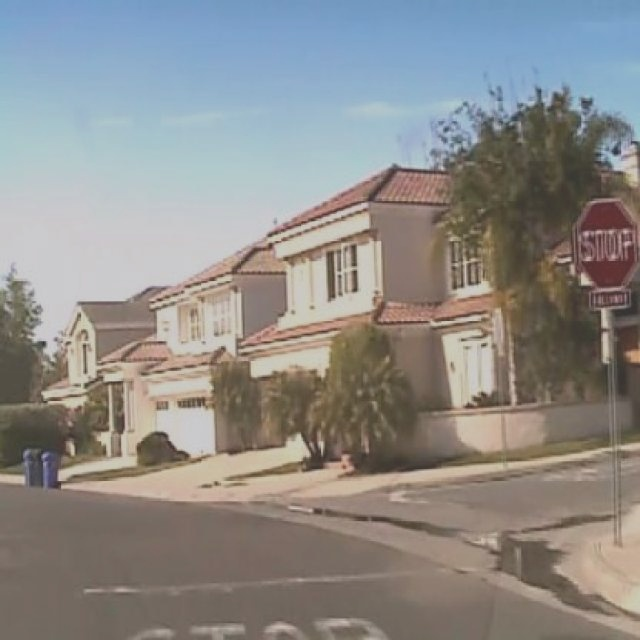stop: (572, 197, 640, 289)
